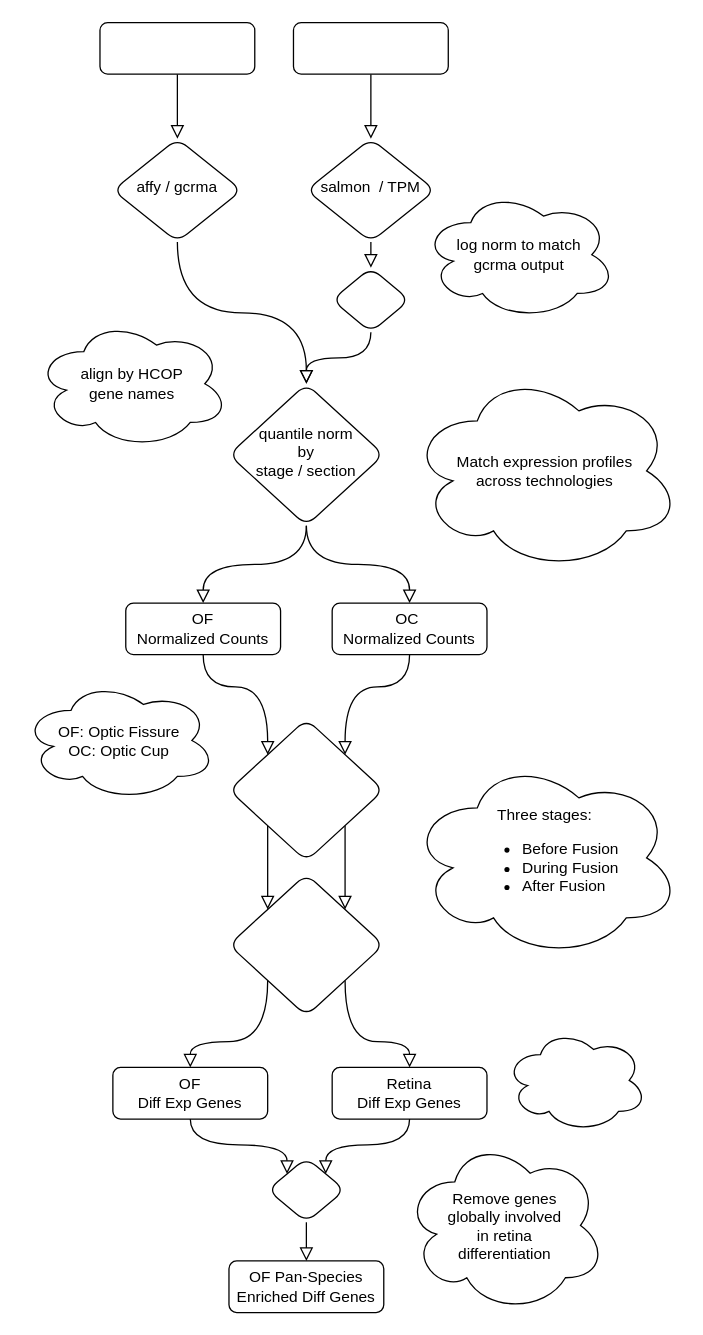
This 703x1335 diagram has some shape labels left out. Each missing label, with the box of its shape:
FDR < 0.05: (504, 1027, 647, 1132)
limma diff testing (across stage): (228, 873, 384, 1016)
log2: (331, 266, 410, 332)
Microarray: (99, 21, 255, 74)
RNA-seq: (292, 21, 448, 74)
sva batch correction: (228, 718, 384, 861)
uniq: (266, 1156, 345, 1222)
